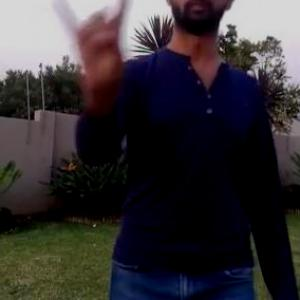takeoff-hand: (43, 0, 138, 101)
